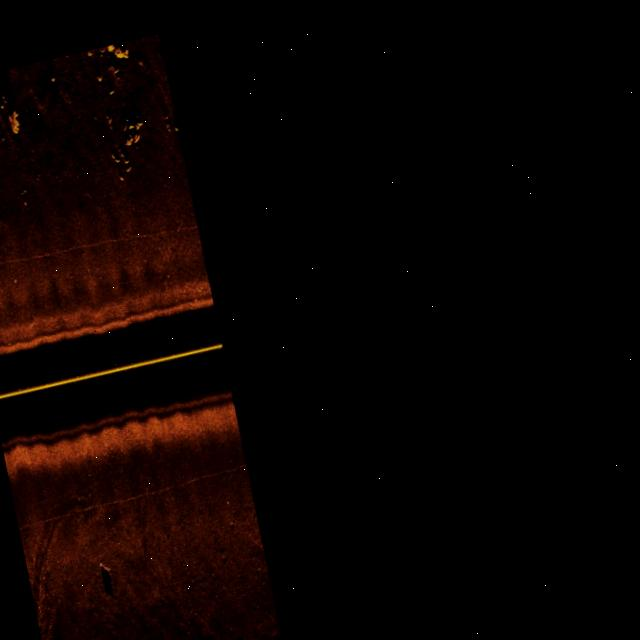mine: (98, 553, 126, 600)
